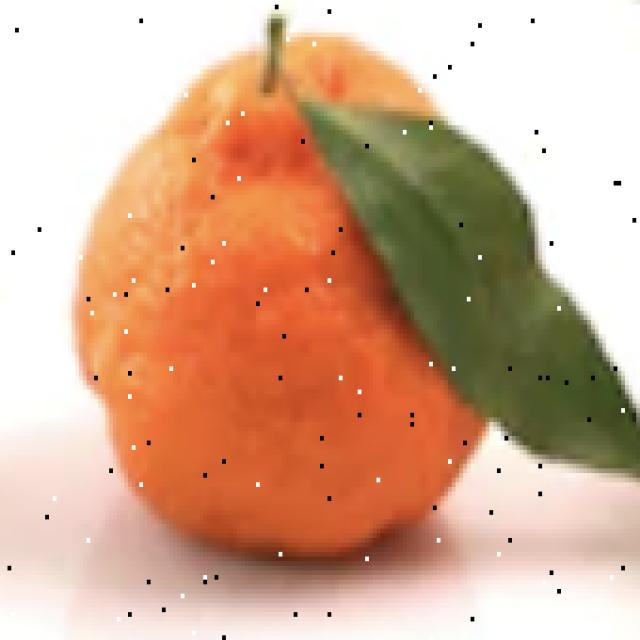orange: (78, 16, 520, 565)
